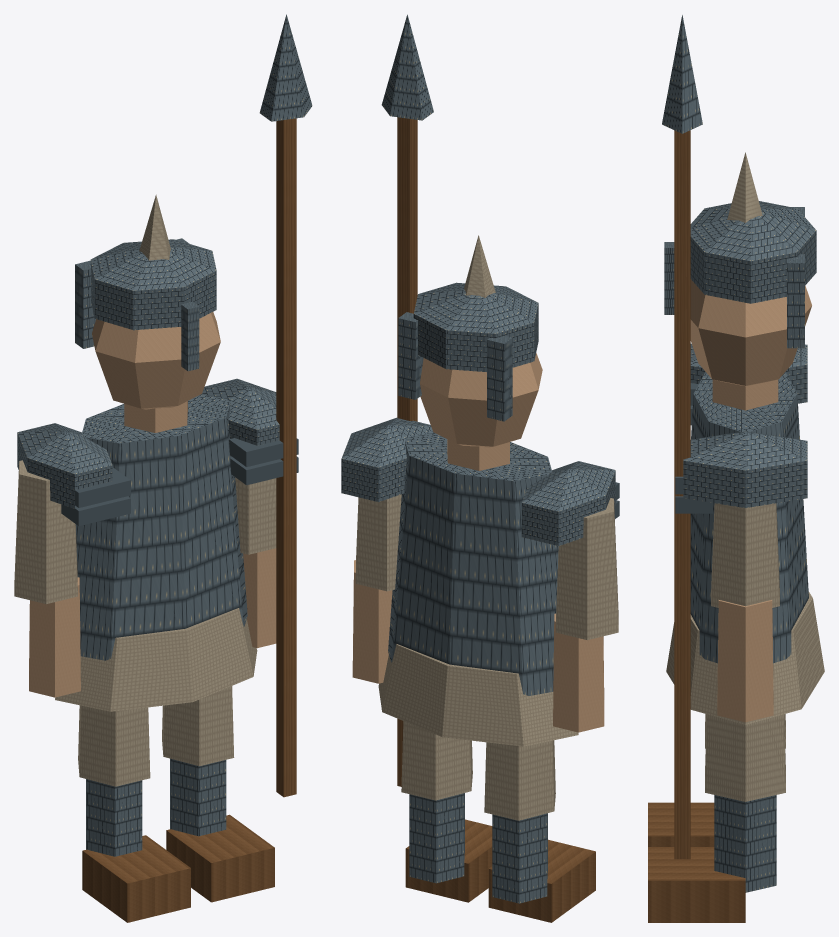
The model's file is unit-SPEAR-lod1.glb.
3 views of the same model, side by side, from view 1: azimuth 30°, elevation 25°; view 2: azimuth 150°, elevation 25°; view 3: azimuth 270°, elevation 25° (orthographic). The views are drawn at different scales.
Size of the model in its own units: 0.187 by 0.565 by 0.098.
Materials: 1 (1 with a texture image).
